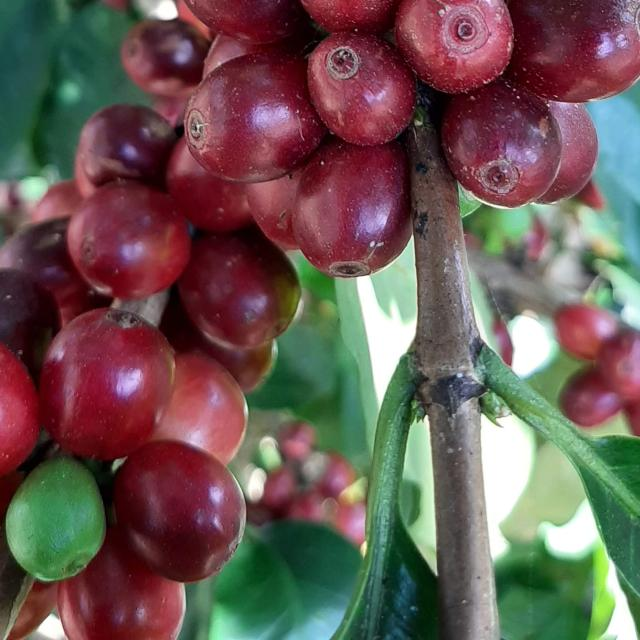Overripe: (0, 217, 110, 327), (77, 103, 176, 186), (120, 18, 210, 97), (0, 268, 59, 383)
Ripe: (39, 308, 175, 461), (113, 441, 246, 583), (184, 49, 326, 182), (292, 135, 412, 278), (442, 78, 563, 208), (177, 227, 301, 349), (66, 180, 191, 300), (56, 527, 185, 640), (509, 0, 640, 102), (159, 286, 277, 394), (308, 31, 416, 145), (395, 0, 514, 93), (166, 136, 253, 232), (537, 100, 599, 204), (0, 343, 40, 477), (184, 0, 303, 43), (246, 168, 303, 250), (300, 0, 401, 33), (31, 180, 82, 222)
Unripe: (4, 458, 105, 583)
